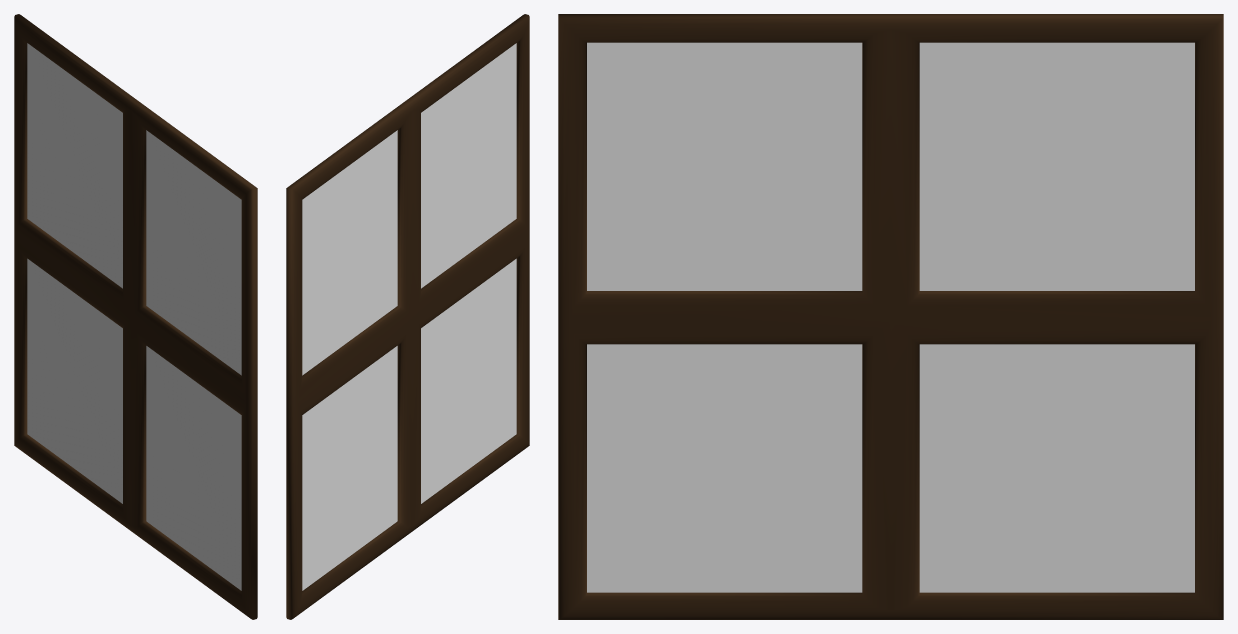
Rendered from Window.glb.
3 renders of one model, left to right at view 1: azimuth 30°, elevation 25°; view 2: azimuth 150°, elevation 25°; view 3: azimuth 270°, elevation 25°, orthographic. The views are drawn at different scales.
Parts seen in each view (by area): view 1: window_glass, window_frame; view 2: window_glass, window_frame; view 3: window_glass, window_frame.
Part boxes in pixels (x1,y1,x2,y2): window_glass: (27,43,241,590); window_frame: (14,14,257,619); window_glass: (302,43,516,590); window_frame: (286,14,529,619); window_glass: (587,42,1194,592); window_frame: (558,14,1223,619).
Size of the model in its own units: 0.1253 by 5.29 by 5.29.
